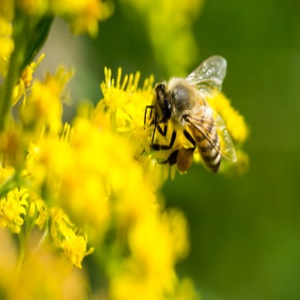bee: (150, 59, 229, 179)
